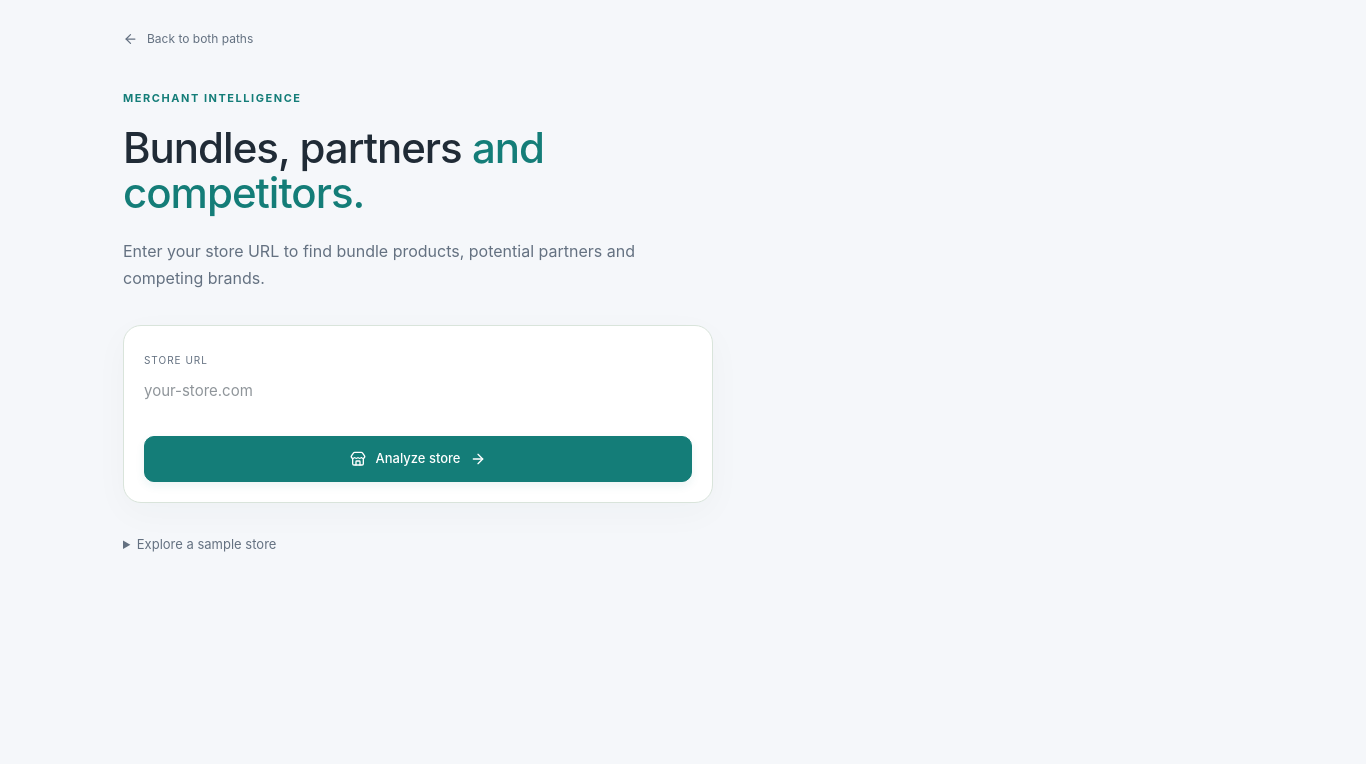
Test: MerchantWorkspace › shows an honest empty state for a public catalog without live demand
Type "public-store.shop" into the field named "Public store URL" at (418, 391), box x1=144 y1=370 x2=692 y2=412
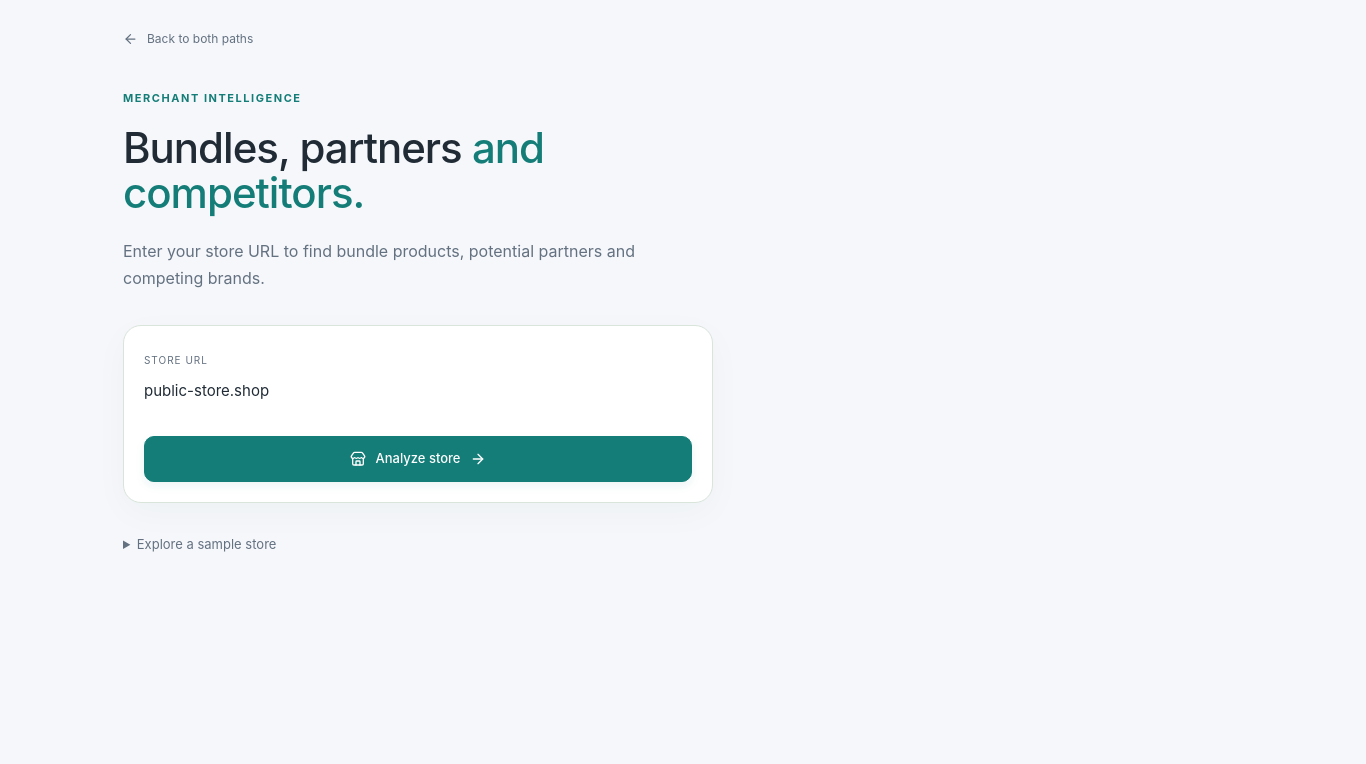
Click the button "Analyze store" at (418, 459), box x1=144 y1=436 x2=692 y2=482
(page scrolled)
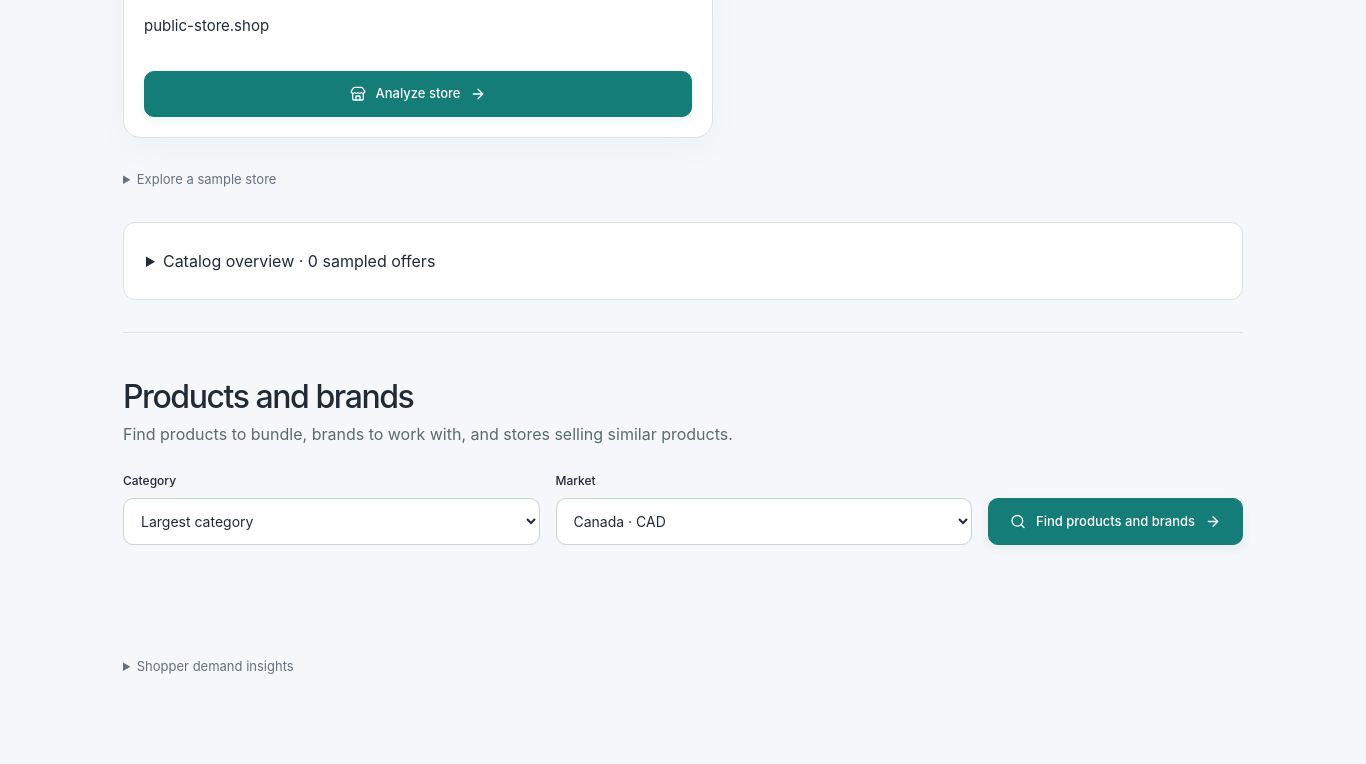
Expected: the heading "Products and brands" is shown, x1=123 y1=373 x2=413 y2=421
